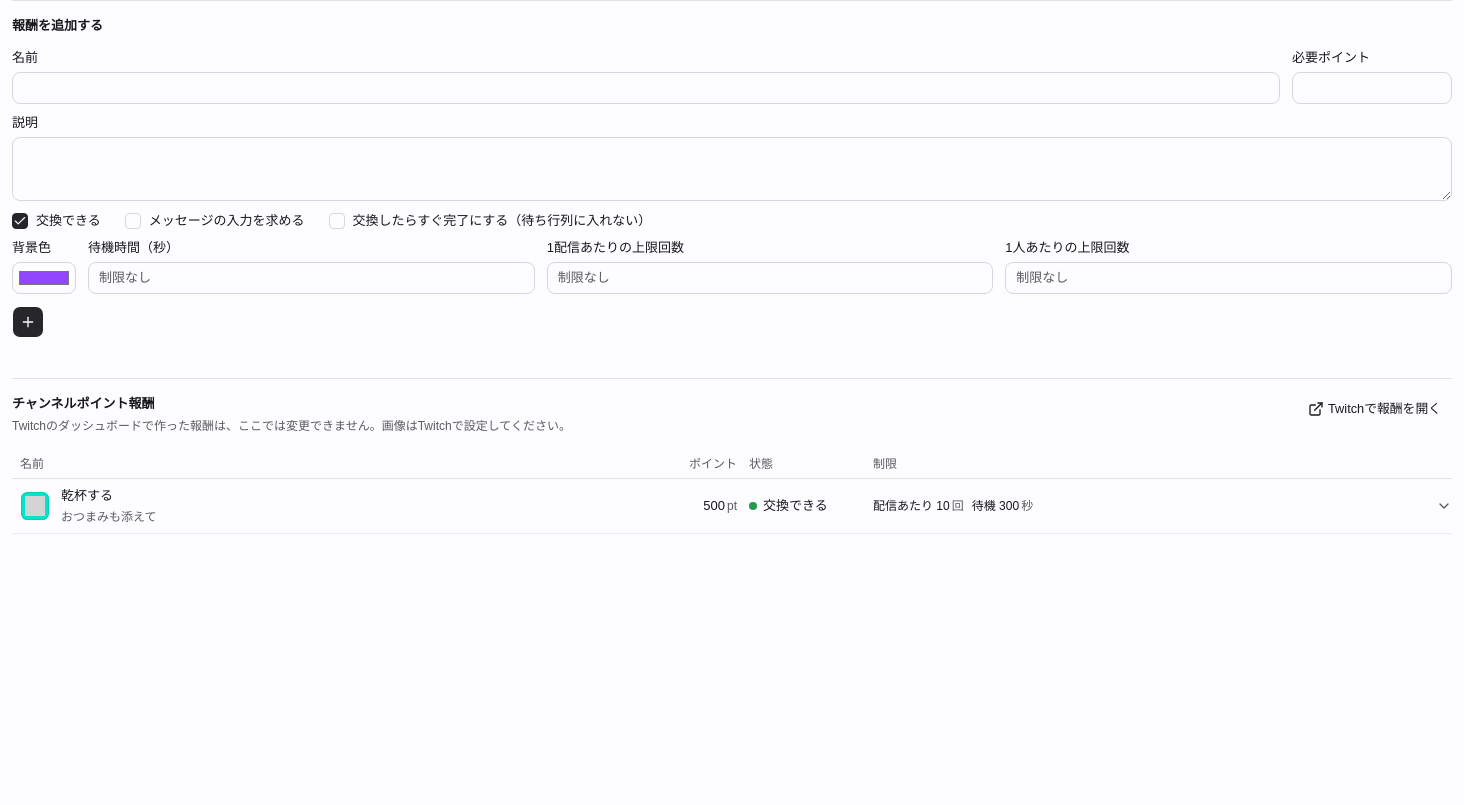
Test: 報酬の一覧 › 報酬の背景色・待機時間・上限回数・待ち行列の設定を編集欄に出す
Click the button "乾杯する おつまみも添えて 500pt 交換できる 配信あたり 10回 待機 300秒": click(720, 506) [12,479,1428,533]
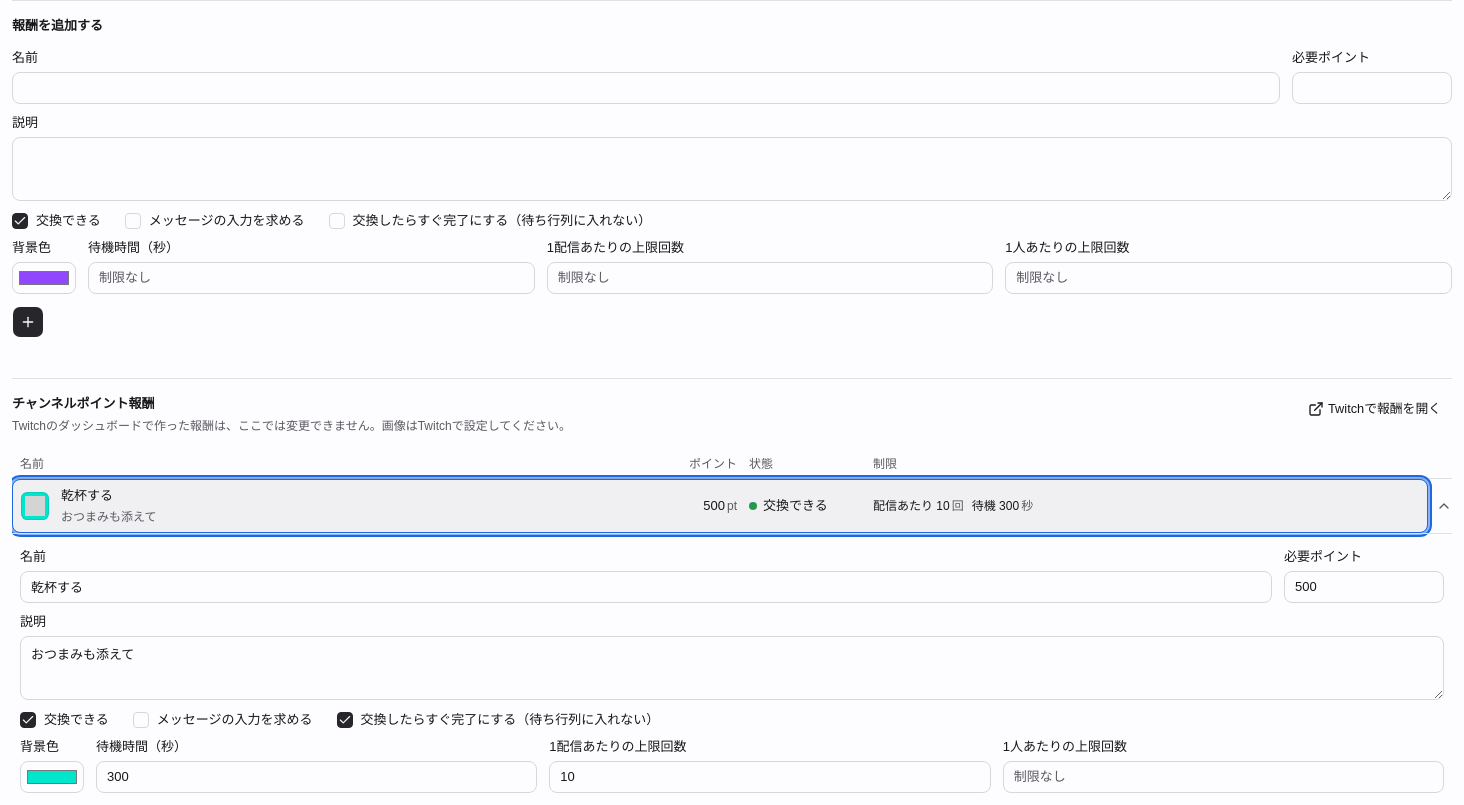
Expected: the 2nd colour field labelled "背景色" holds "#00e5cb", [20,761,84,793]
Expected: the 2nd number field labelled "待機時間（秒）" holds "300", [96,761,537,793]
Expected: the 2nd number field labelled "1配信あたりの上限回数" holds "10", [549,761,991,793]
